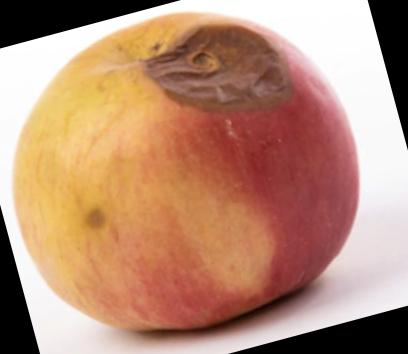Apple: (18, 20, 360, 326)
